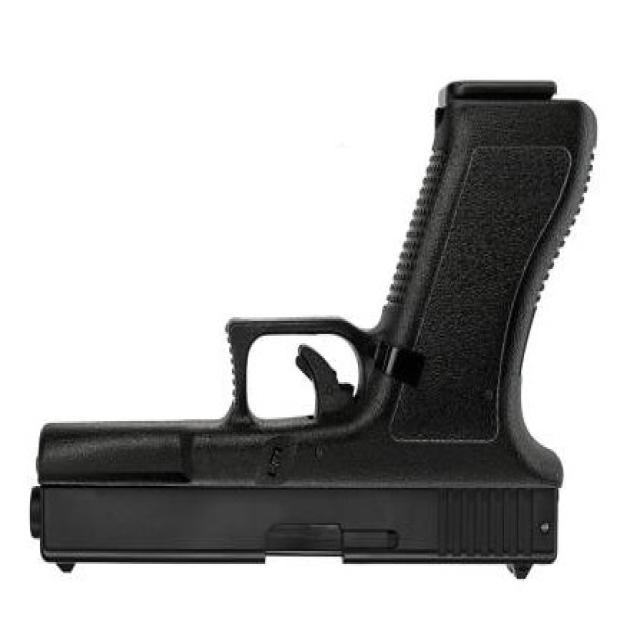pistol: (28, 71, 613, 585)
